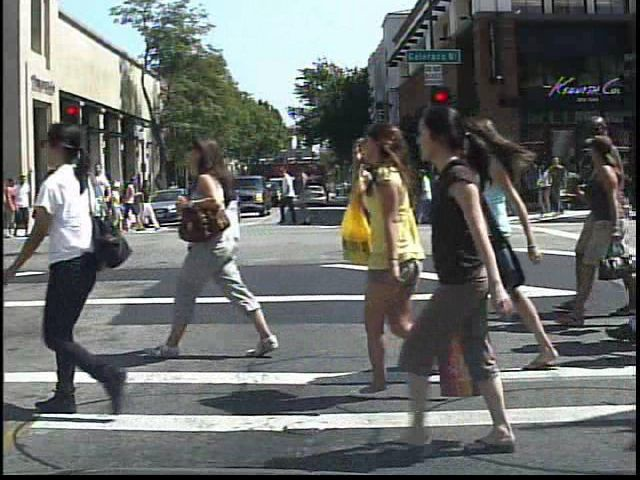person: (379, 100, 554, 463), (9, 116, 136, 434), (143, 117, 284, 363), (445, 107, 571, 378), (351, 118, 435, 397), (83, 160, 115, 239), (486, 153, 518, 225), (38, 165, 66, 239), (9, 171, 33, 242), (102, 177, 122, 216), (164, 175, 183, 211)
